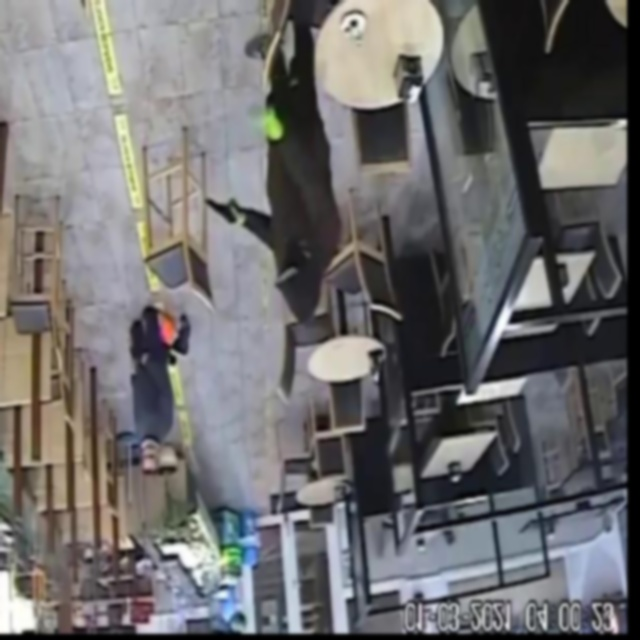gun: (194, 181, 247, 242)
